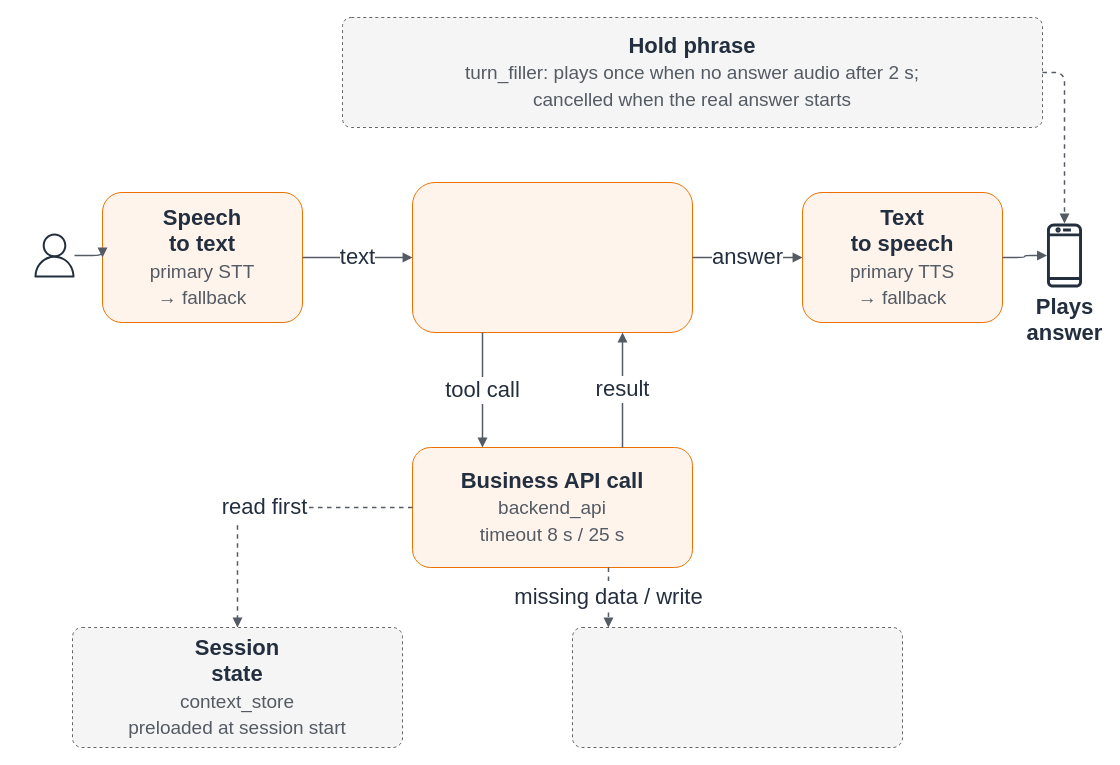
Image size: 1120x765. Some labels were removed from this diagram. The centre of each missing label's shape, as x and y in pixels:
"Driver speaks" belongs at (x=54, y=255).
"Language model primary LLM → fallback tool schema per session type" belongs at (x=552, y=257).
"Trip & dispatch service HTTPS via API Gateway" belongs at (x=737, y=687).
